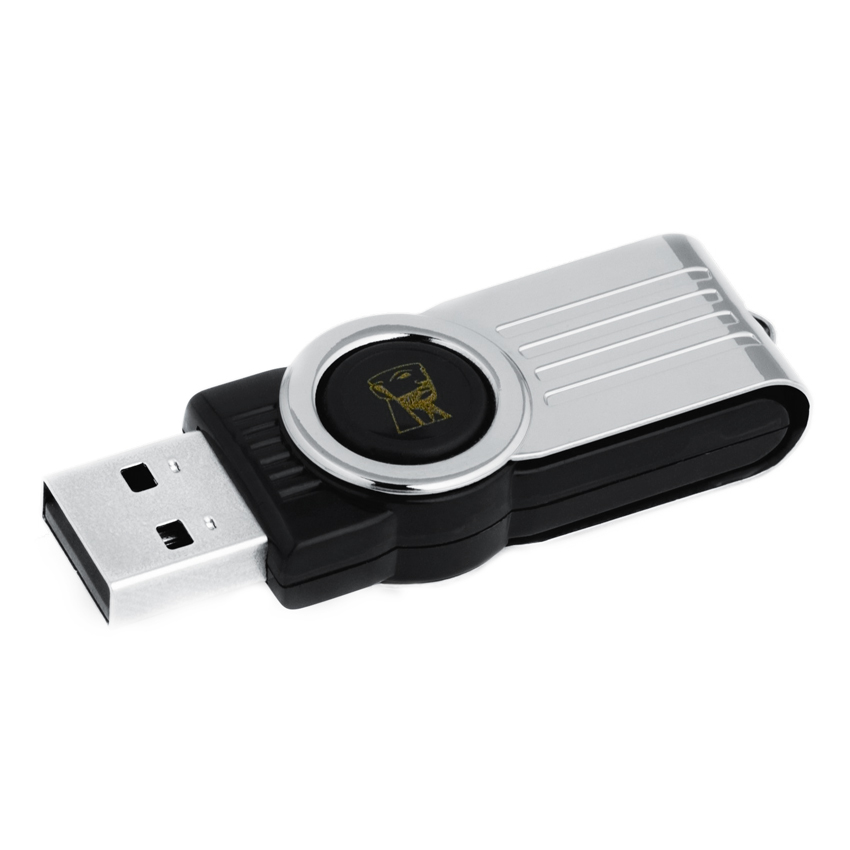Kingston: (356, 351, 465, 446)
